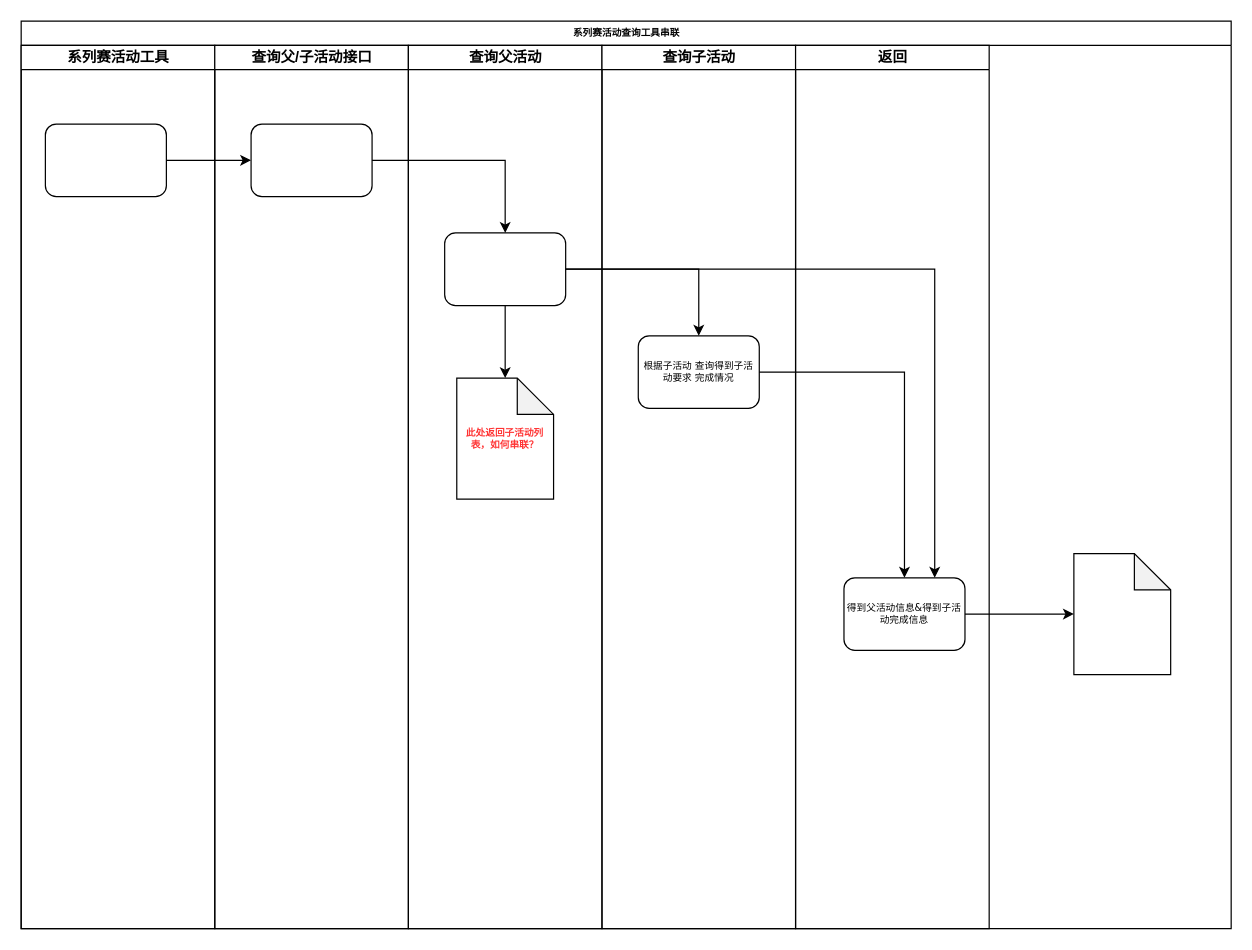
The diagram is 1252 pixels wide and 950 high, and some of its shapes have lost their labels. The centre of each missing label's shape, as x and y in pixels:
"得到活动父活动ID" belongs at [311,160].
"根据父活动查询得到子活动列表" belongs at [504,269].
"此处需要 父活动信息 和子活完成信息？" belongs at [1122,613].
"输入 子/父活动ID，骑手ID" belongs at [105,160].
